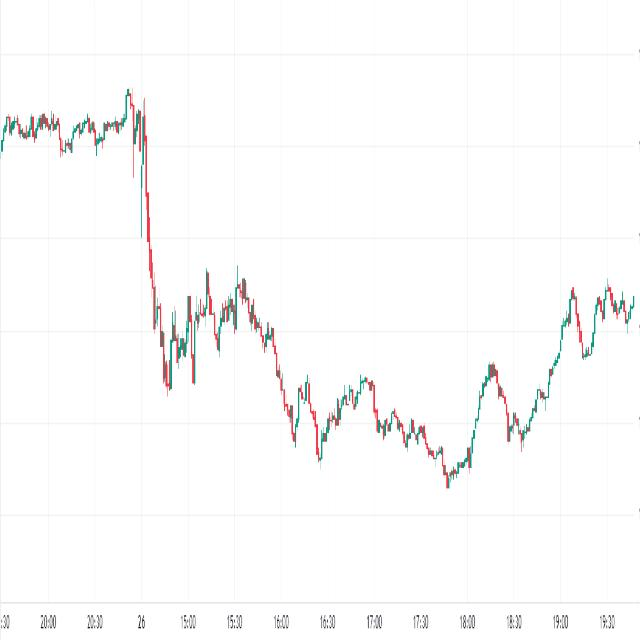Ascending-Triangle: (143, 254, 312, 437)
